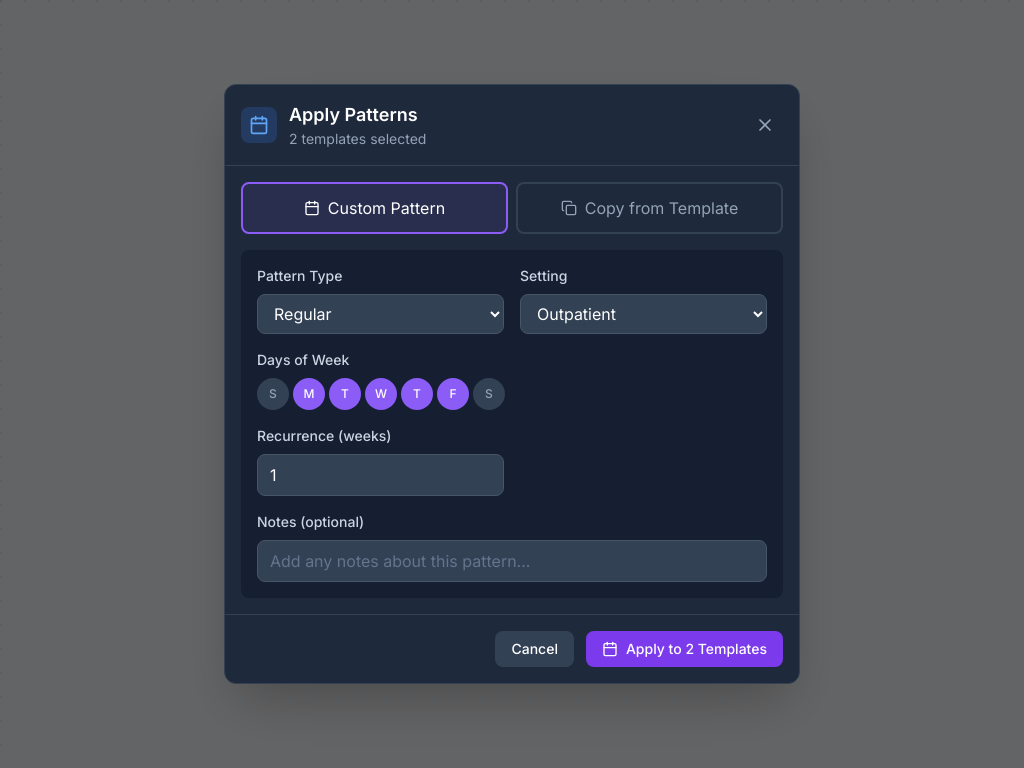
Test: BulkPatternModal › Copy Mode with Pattern Loading › should display loaded patterns
Click the button "Copy from Template": point(650, 208) [516,182,783,234]
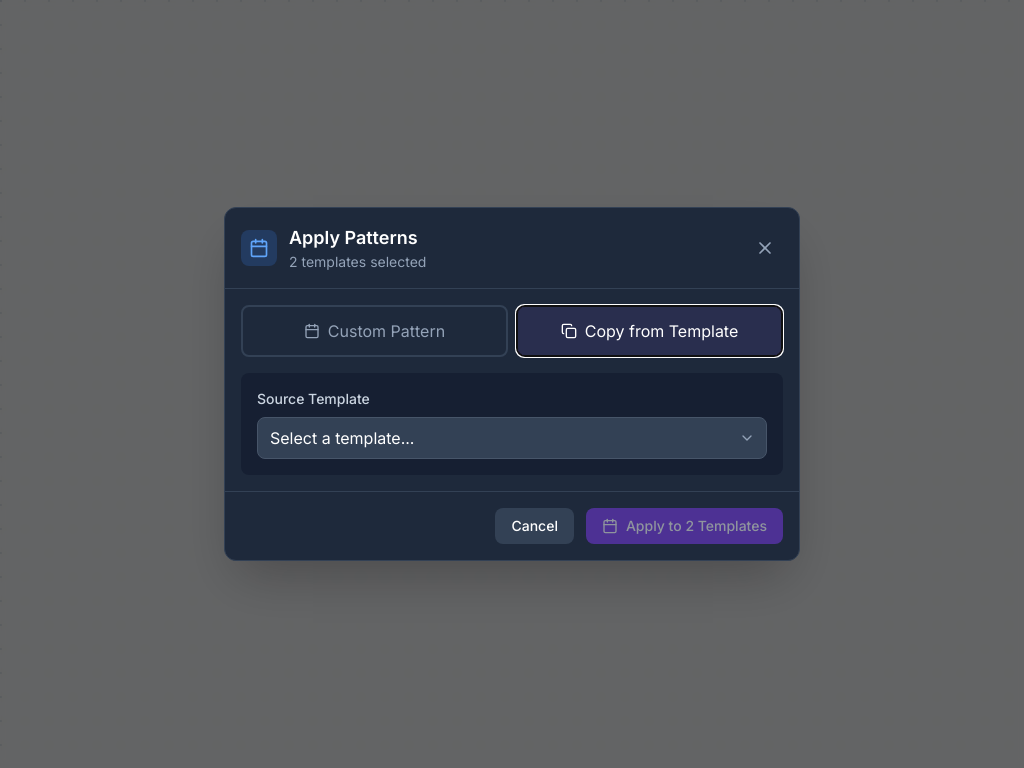
Select "Outpatient Clinic" in the dropdown: point(512, 438) [257,417,767,459]
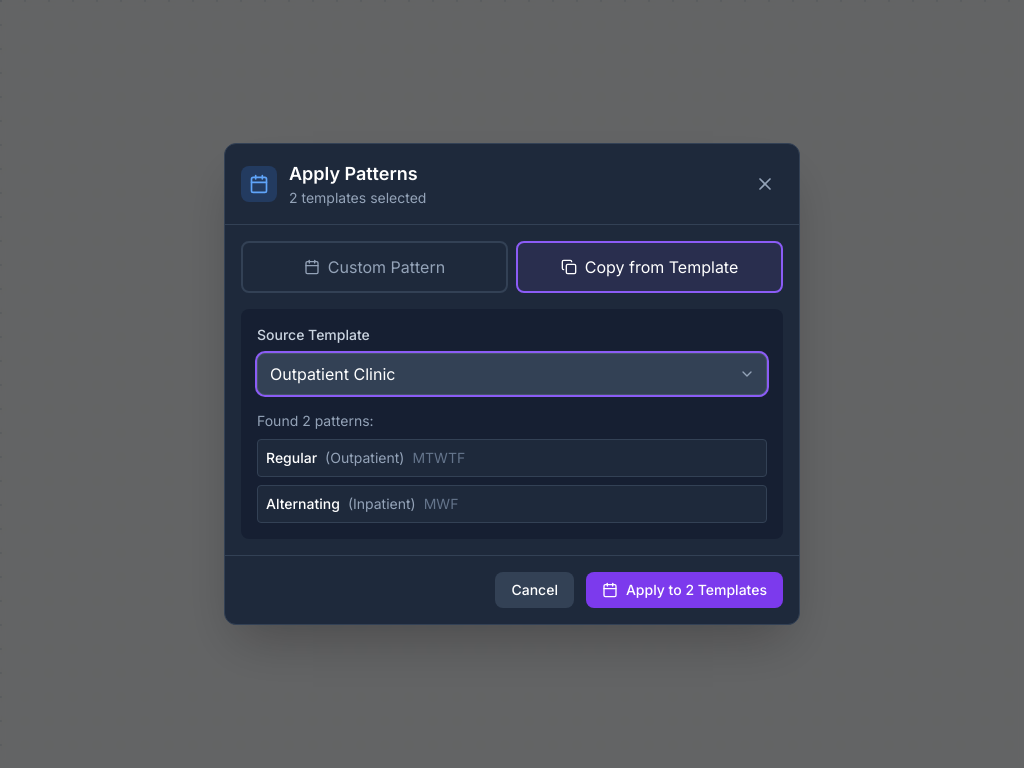
Result: the text "Found 2 patterns:" is shown at [257,412,374,429]
